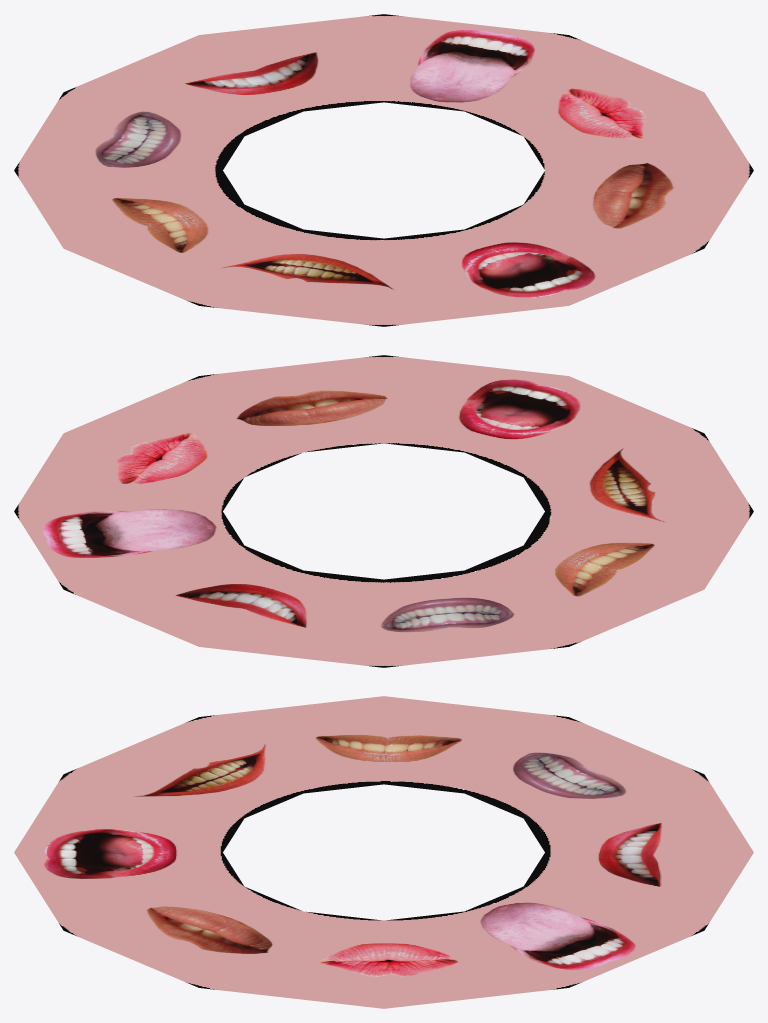
The model's file is disco-bocas.dae.
The picture shows the model from 3 angles, top to bottom: view 1: azimuth 30°, elevation 25°; view 2: azimuth 150°, elevation 25°; view 3: azimuth 270°, elevation 25°; orthographic projection.
Parts seen in each view (by area): view 1: Circle; view 2: Circle; view 3: Circle.
Boxes of the visible parts, x1,y1,x2,y2 form: Circle: (14,14,753,326); Circle: (14,355,753,667); Circle: (14,696,753,1008).
Bounding box in the file's own units: 0.9926 × 0.9926 × 0.
